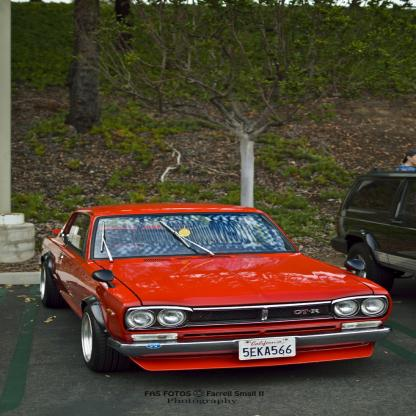Car: (40, 203, 395, 376), (332, 167, 416, 290)
